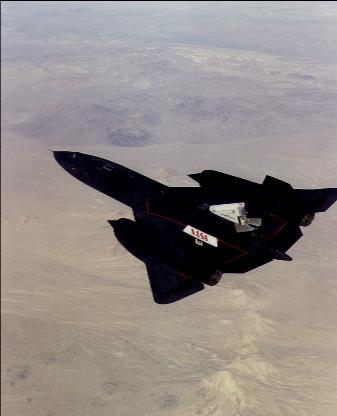Rafale: (47, 147, 336, 304)
